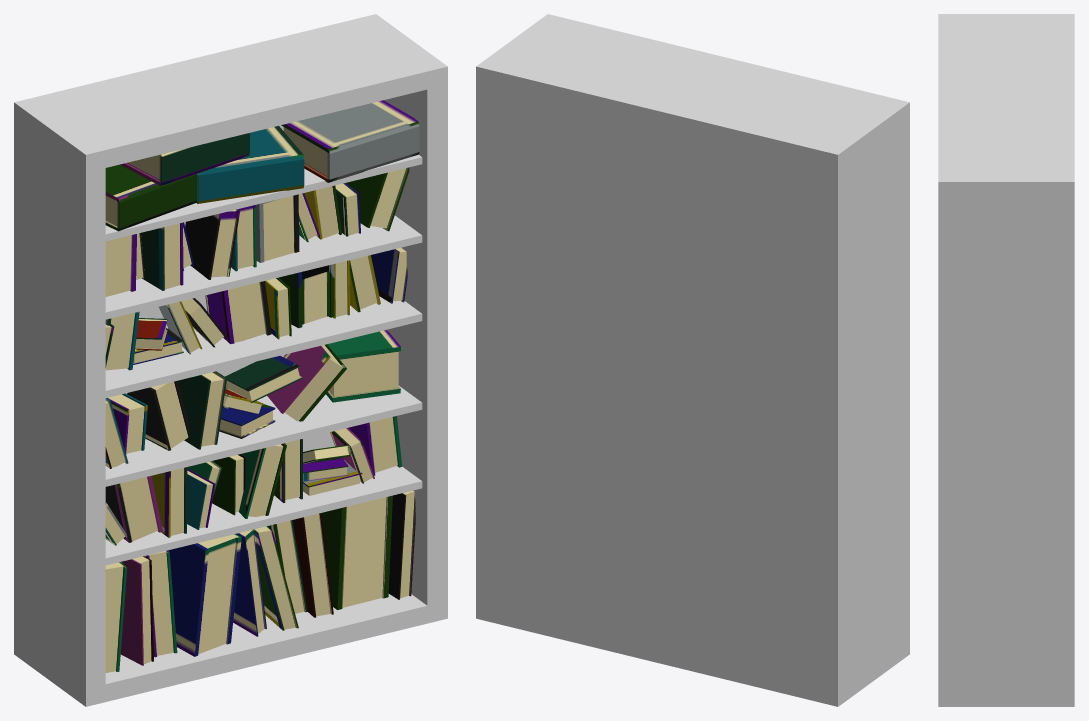
File: Book_Shelf_4 1.fbx
3 views of the same model, side by side, from view 1: azimuth 30°, elevation 25°; view 2: azimuth 150°, elevation 25°; view 3: azimuth 270°, elevation 25° (orthographic). The views are drawn at different scales.
Visible parts, largest first — view 1: Book_Case.003, Book.003; view 2: Book_Case.003; view 3: Book_Case.003.
Part boxes in pixels (bbox=[...]): Book_Case.003: bbox=[14, 14, 447, 706]; Book.003: bbox=[105, 100, 419, 672]; Book_Case.003: bbox=[476, 14, 909, 706]; Book_Case.003: bbox=[938, 14, 1074, 706].
Bounding box in the file's own units: 172 × 251 × 59.19.
